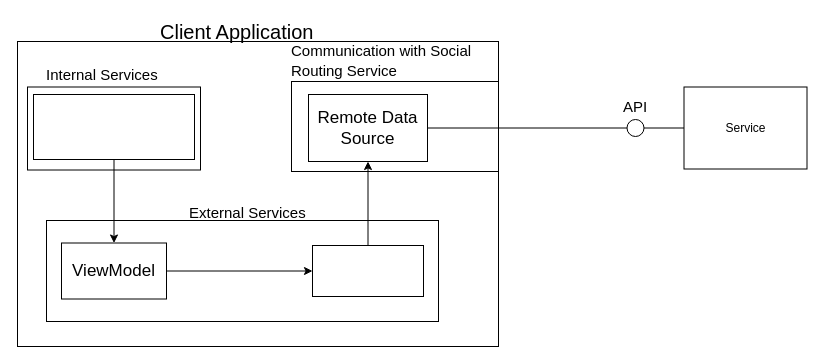
This 825x364 diagram has some shape labels left out. Each missing label, with the centre of its shape:
Activity / Fragment: [113,127]
Repository: [368,270]
